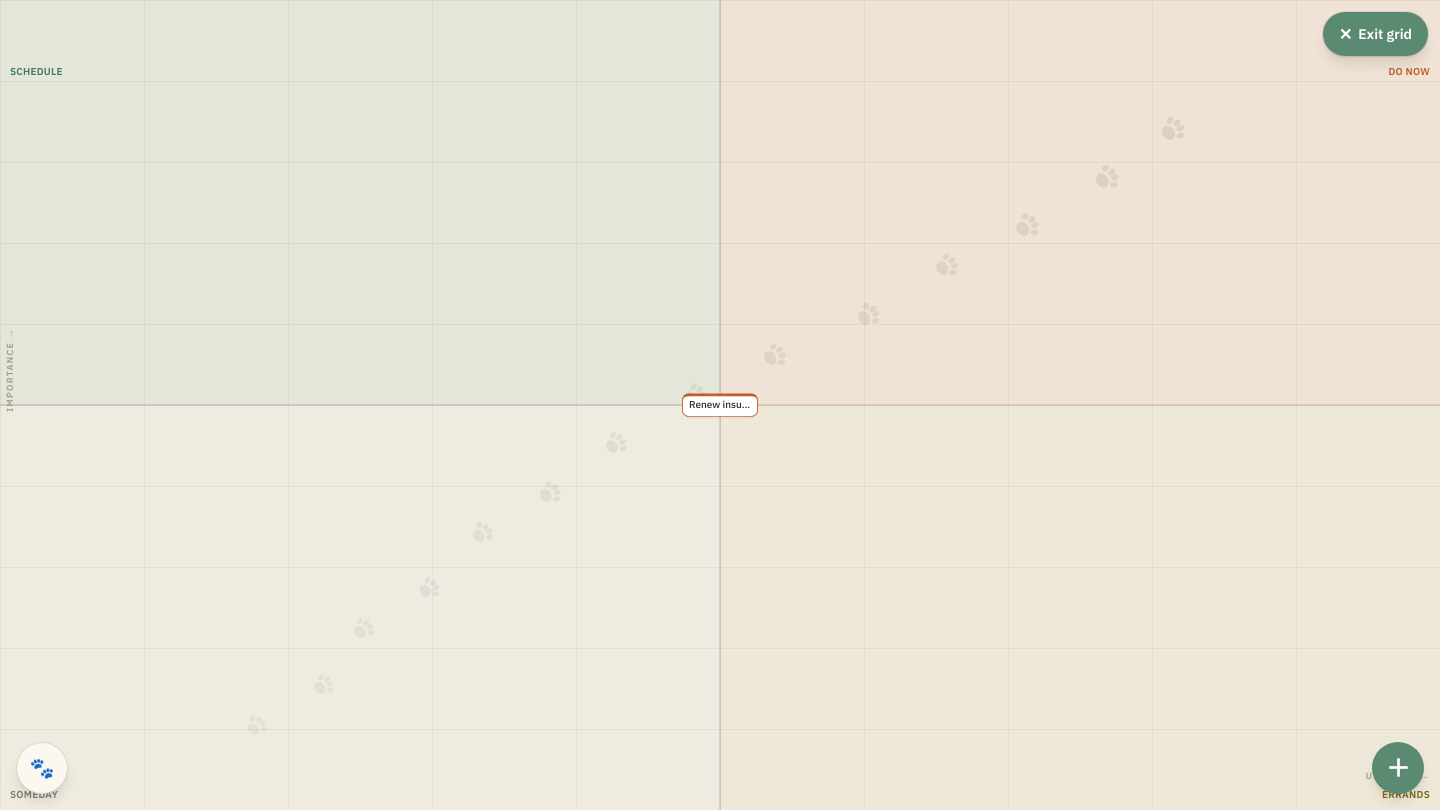
Test case: TouchGridSurface task sheet › tap chip → action sheet; Done marks a one-off done and closes
Click the button "Renew insurance" at point(720, 405), box [682,393,758,417]
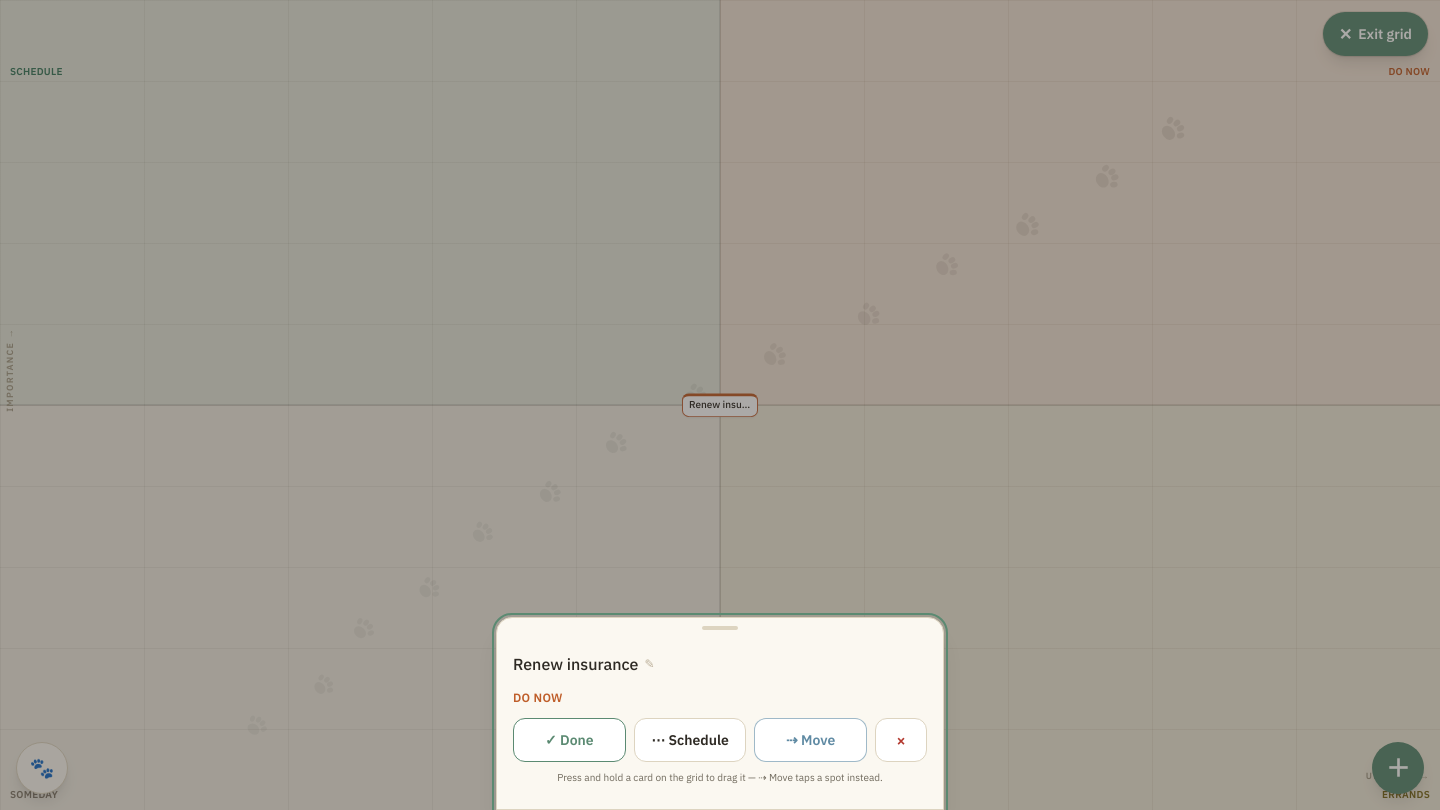
Click the button "✓ Done" at point(569, 740), box [513,718,626,762]
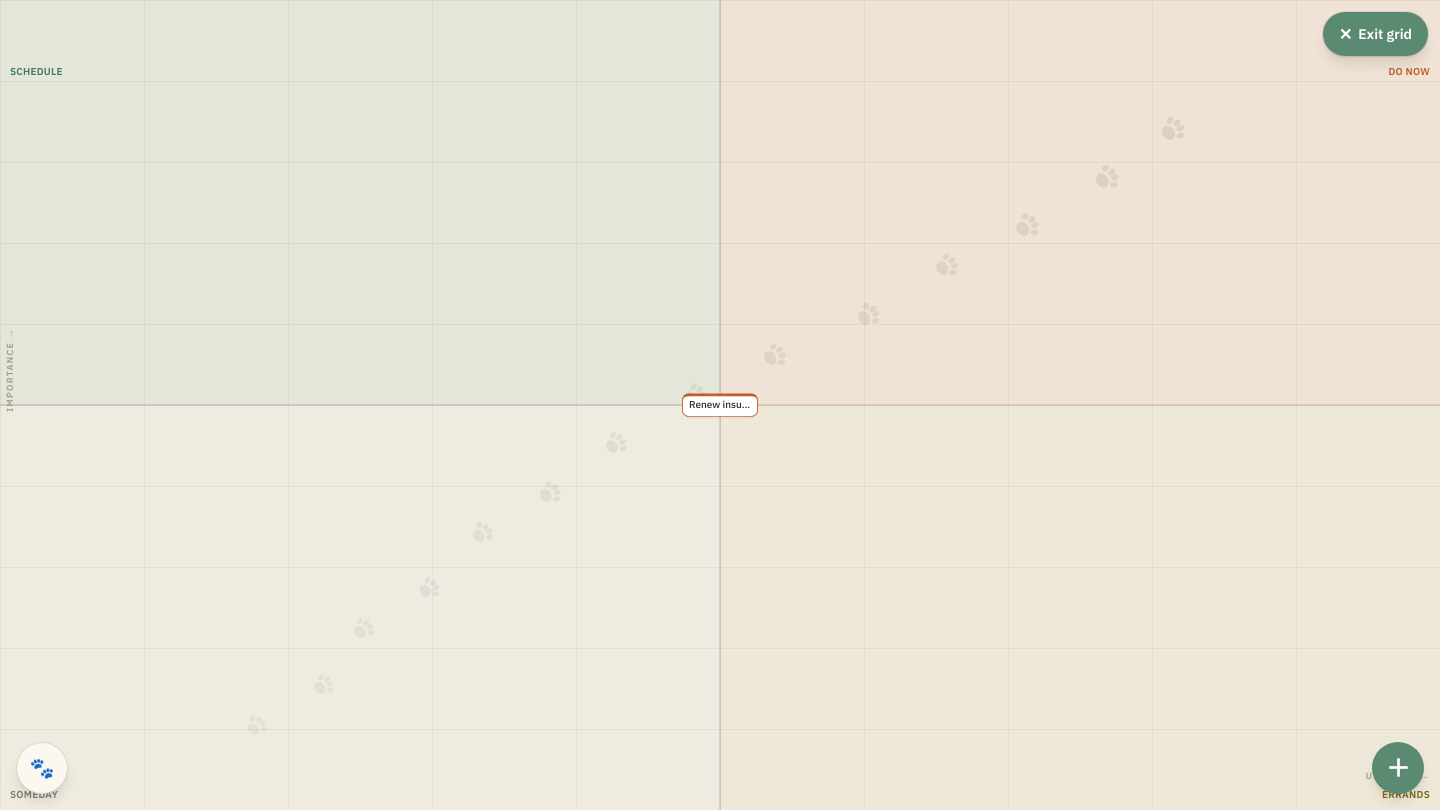
Check: the dialog is gone
